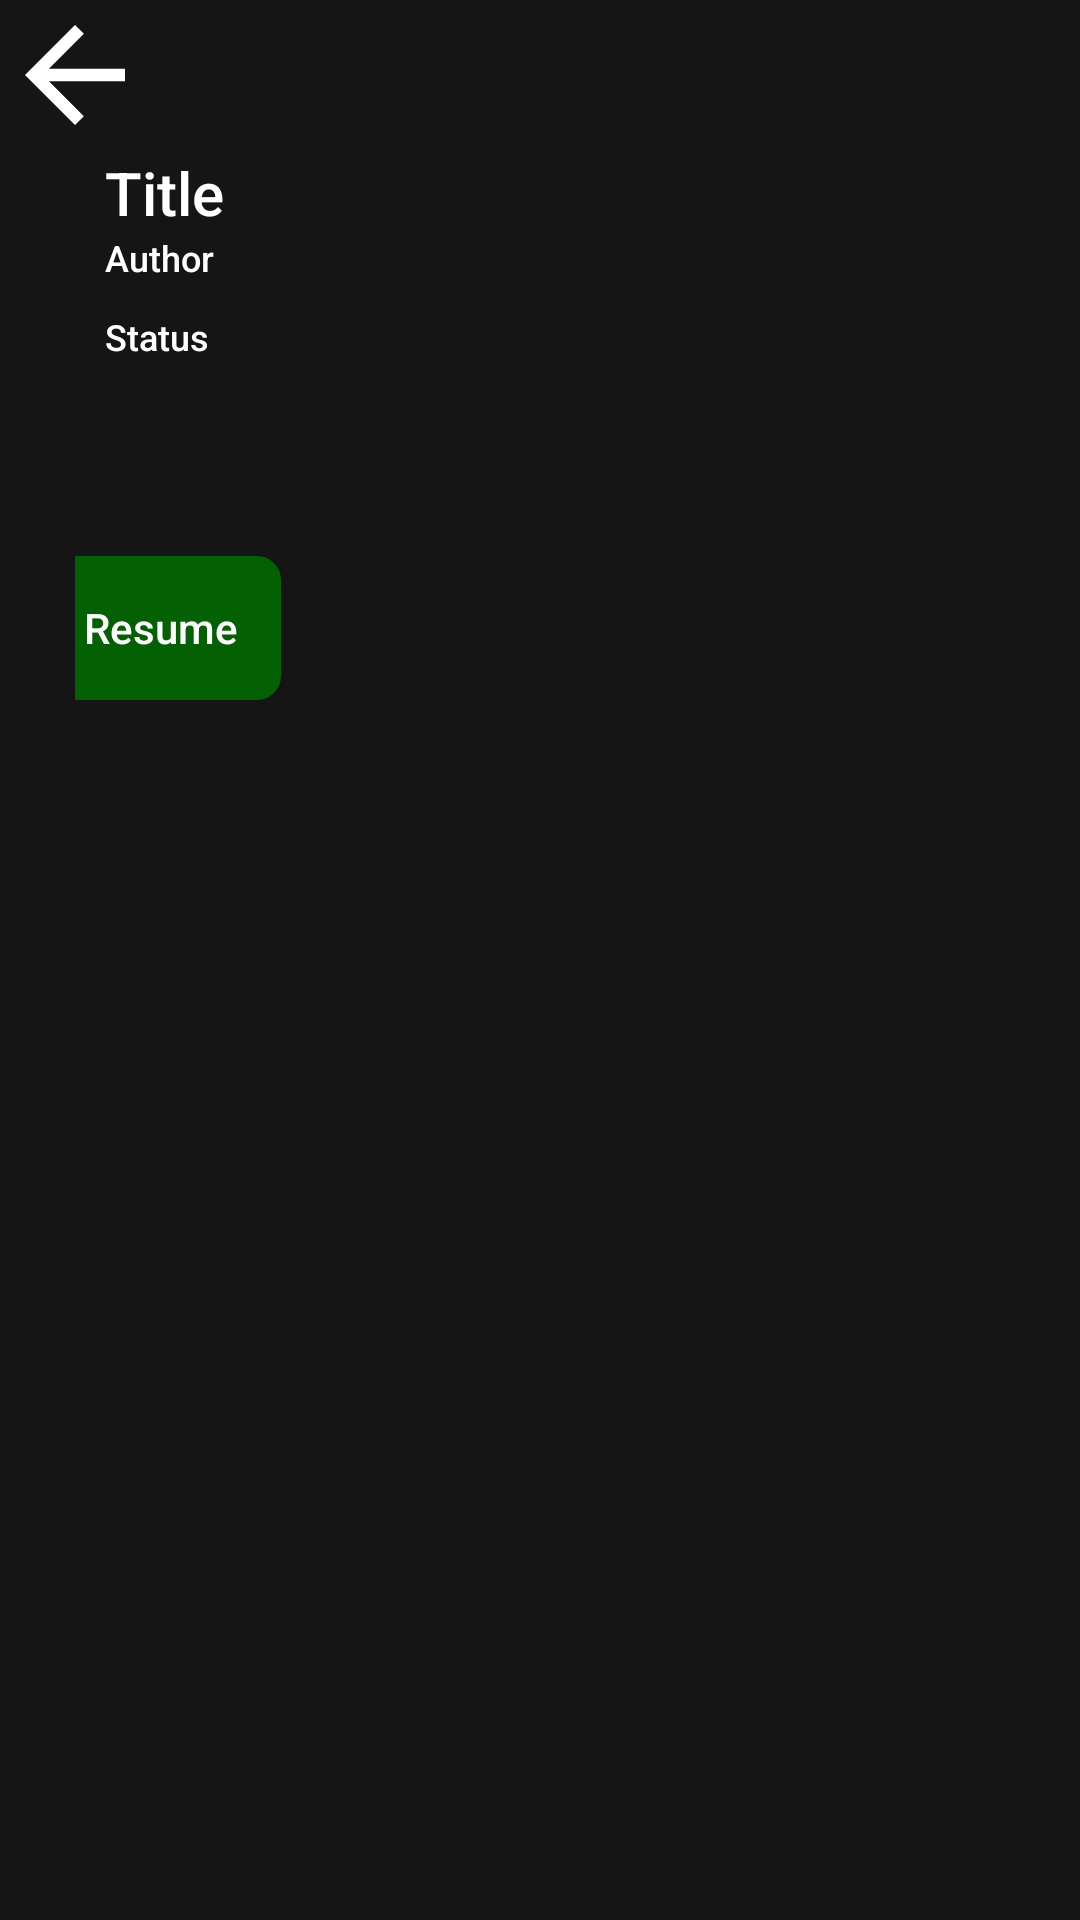

Point at icon controls on the screen. Image size 1080*1920, points as point (x, y).
arrow back: point (75, 75)
